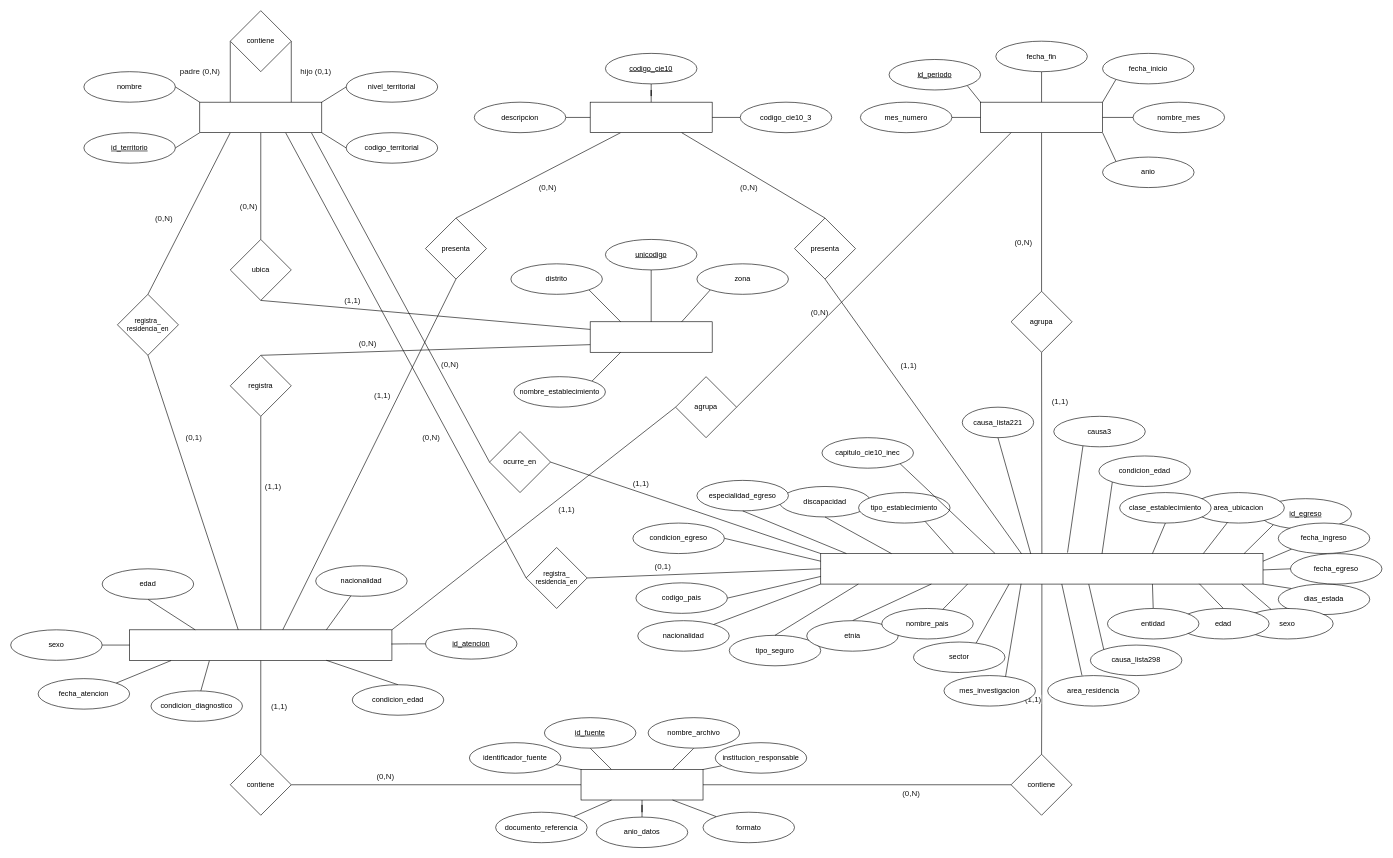
Image size: 1393x858. Some labels were removed from this diagram. Here are the shapes that lost their labels. From the top down, the centre of each, then its label:
At (x=260, y=117): "TERRITORIO".
At (x=651, y=117): "DIAGNOSTICO_CIE10".
At (x=1041, y=117): "PERIODO".
At (x=651, y=336): "ESTABLECIMIENTO_SALUD".
At (x=1041, y=568): "EGRESO_HOSPITALARIO".
At (x=260, y=644): "ATENCION_EMERGENCIA".
At (x=641, y=784): "FUENTE_DATOS".
